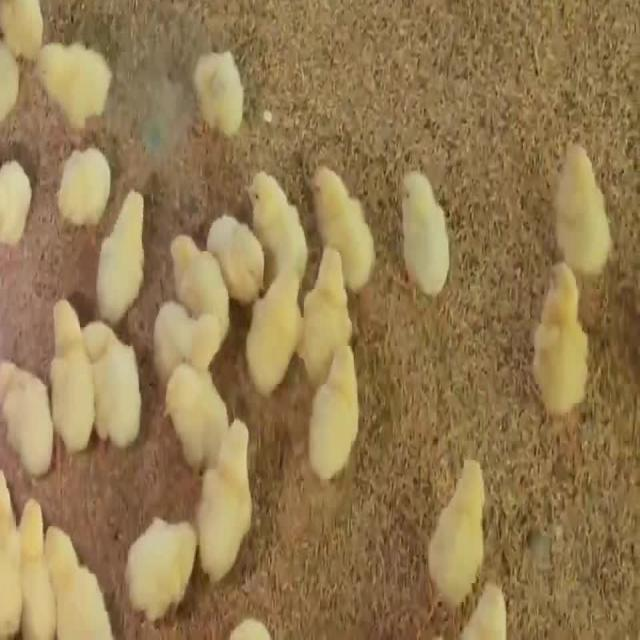poussin: (310, 157, 386, 301), (193, 409, 255, 580), (534, 258, 592, 418), (423, 460, 489, 598), (84, 190, 159, 311), (31, 23, 113, 132), (51, 499, 114, 640), (120, 509, 200, 620), (79, 304, 143, 441), (246, 249, 306, 386), (47, 295, 100, 447), (396, 160, 454, 298), (14, 486, 66, 634), (296, 252, 348, 399), (183, 37, 254, 142), (309, 335, 359, 481), (556, 142, 608, 282), (158, 345, 226, 452), (170, 218, 230, 339), (0, 337, 57, 456), (243, 153, 311, 249), (49, 147, 119, 224), (211, 204, 268, 290), (157, 291, 216, 361), (0, 151, 37, 249)
